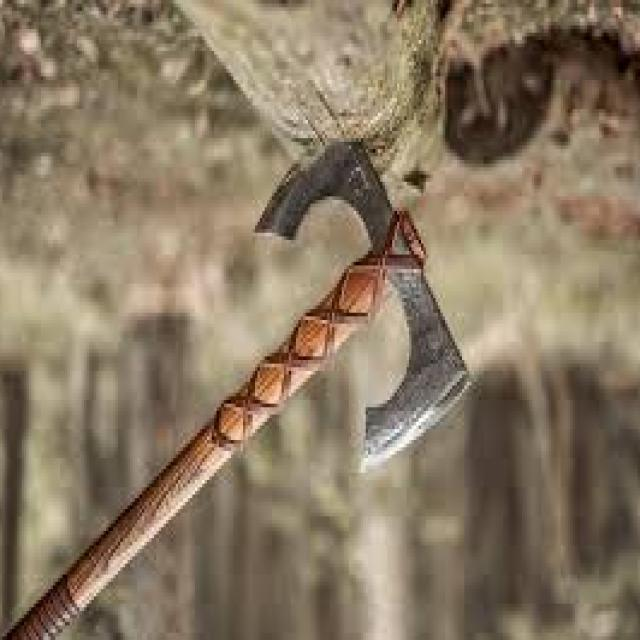Gun: (0, 120, 498, 640)
